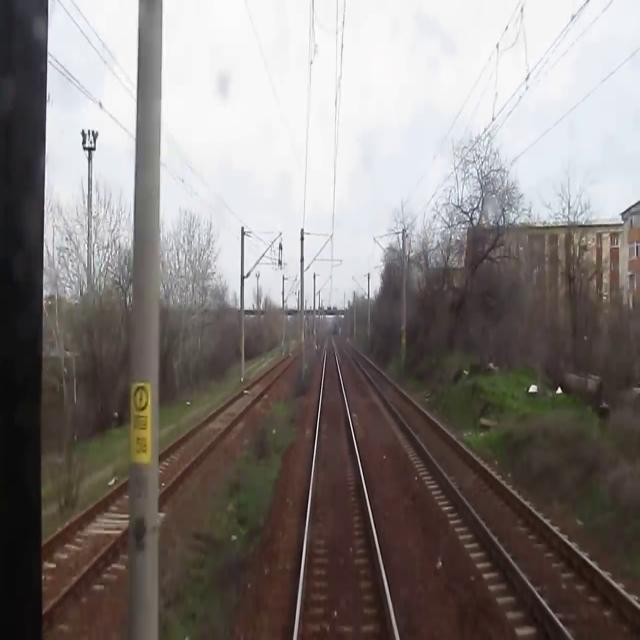rail-track: (335, 333, 640, 639), (296, 334, 393, 639), (159, 349, 300, 488), (87, 481, 130, 562)
